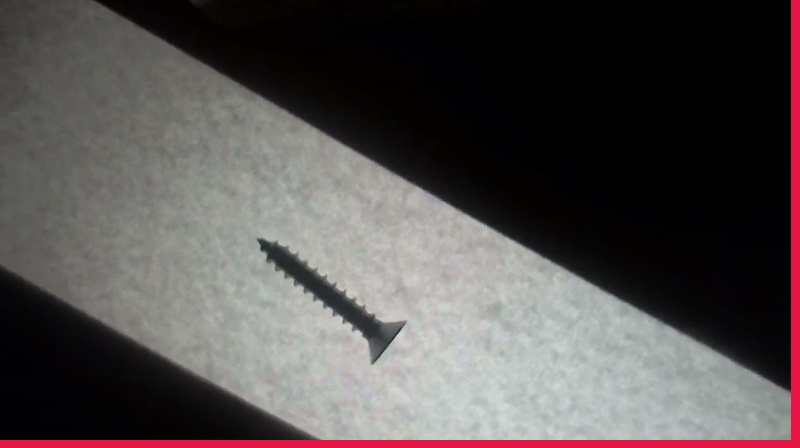S001: (251, 234, 409, 368)
